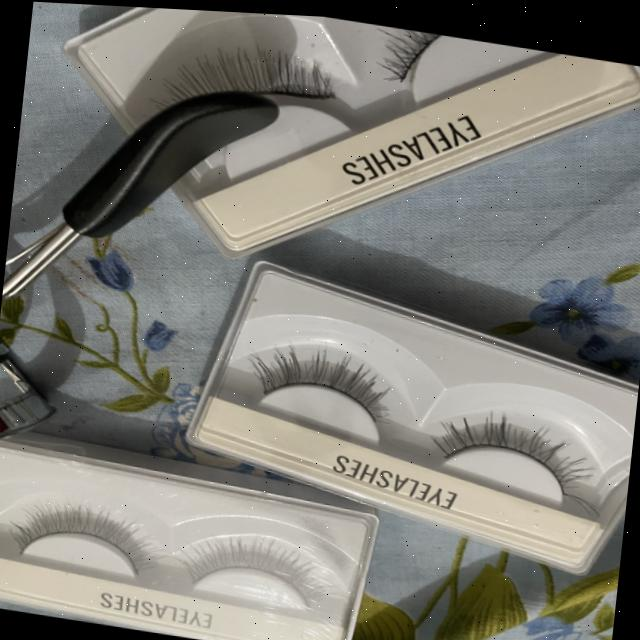eyelash curler: (0, 41, 291, 492), (409, 383, 622, 526), (225, 324, 410, 464), (167, 504, 340, 618), (0, 484, 162, 589)
